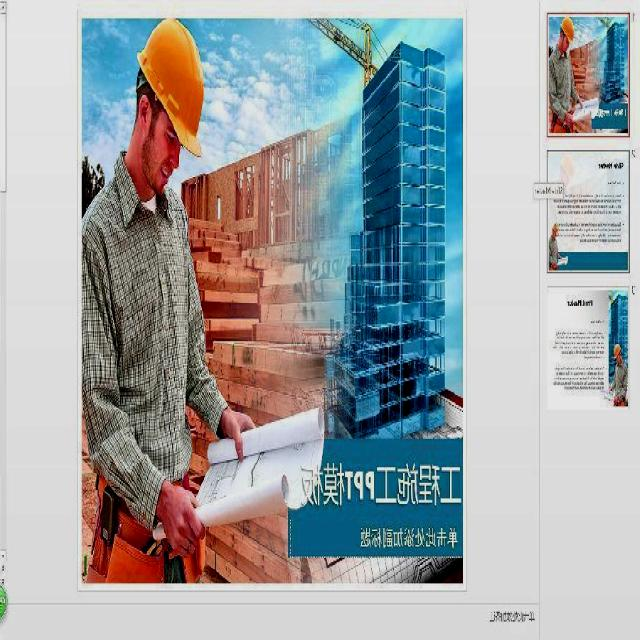face_nomask: (141, 112, 192, 197)
hand_noglove: (155, 452, 206, 554), (220, 398, 259, 466)
head_helmet: (134, 12, 208, 148)
person: (86, 0, 219, 552), (550, 10, 592, 137)
